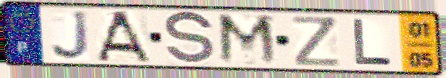A: (94, 9, 154, 65)
J: (50, 9, 93, 62)
L: (351, 17, 395, 68)
M: (215, 12, 282, 68)
S: (163, 10, 218, 68)
Z: (289, 14, 344, 69)
